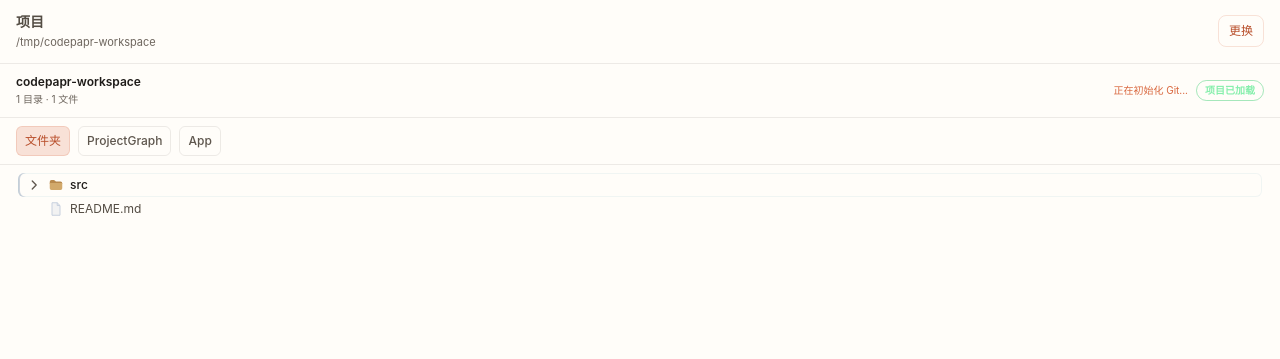
Test: CodingWorkbench › does not expand a directory whose lazy load failed, and retries on the next click
// 第一次点击：懒加载失败 → 不得展开（不显示子文件），并展示错误提示
Click the list item "src".
click(34, 184)  # box [18,172,1262,196]
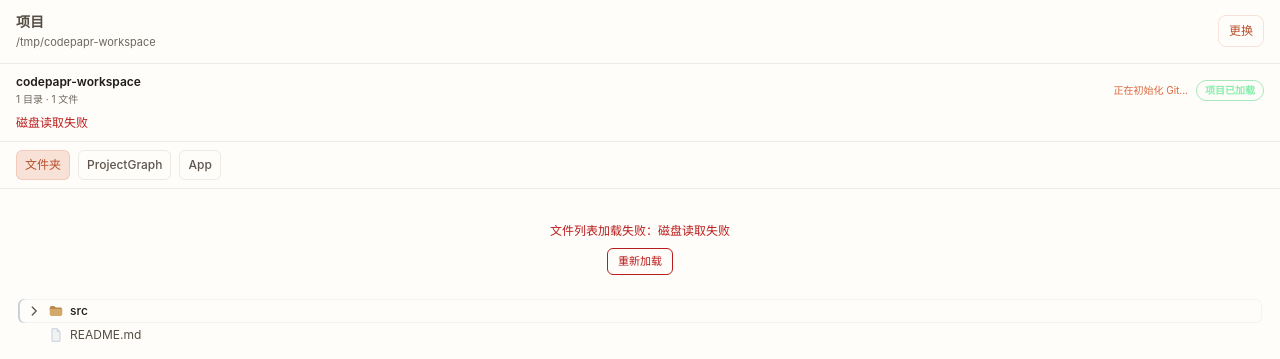
Expected: the text "App.tsx" is not shown
Now the text "文件列表加载失败" is shown, box [550,222,730,238]
Click the list item "src".
click(34, 310)  # box [18,298,1262,322]
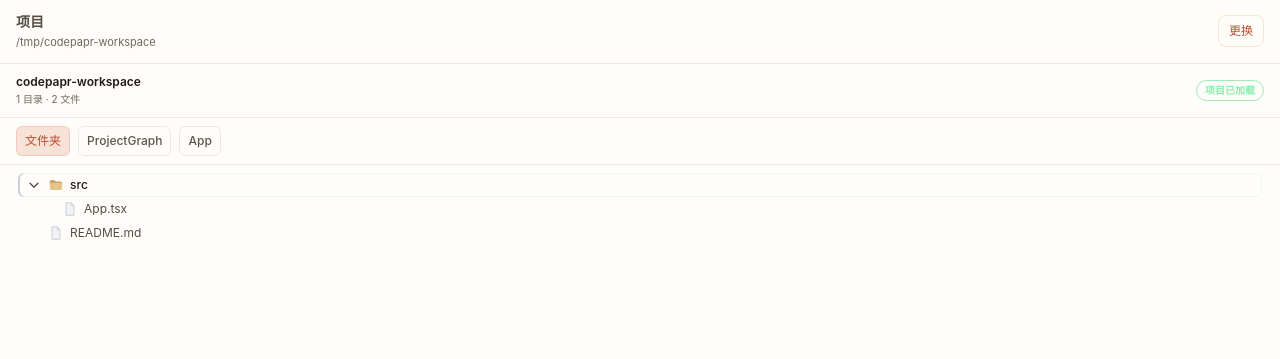
Now the text "App.tsx" is shown, box [84,202,127,214]
Now the text "文件列表加载失败" is gone
